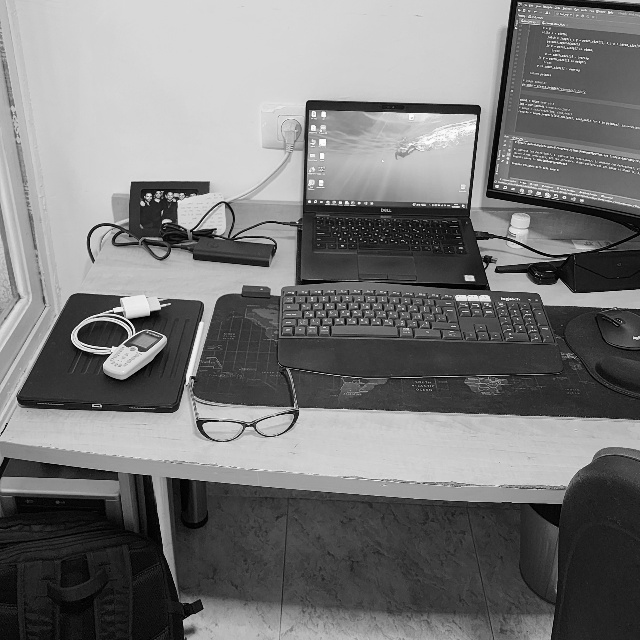glasses: (185, 365, 302, 442)
